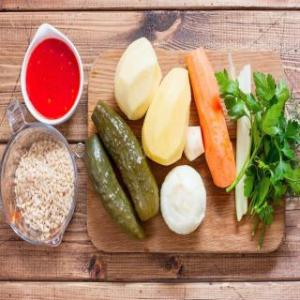carrot: (178, 44, 244, 188)
cucumber: (90, 98, 158, 224), (84, 132, 148, 244)
onion: (160, 162, 210, 236)
potato: (138, 64, 192, 167), (110, 33, 164, 123)
